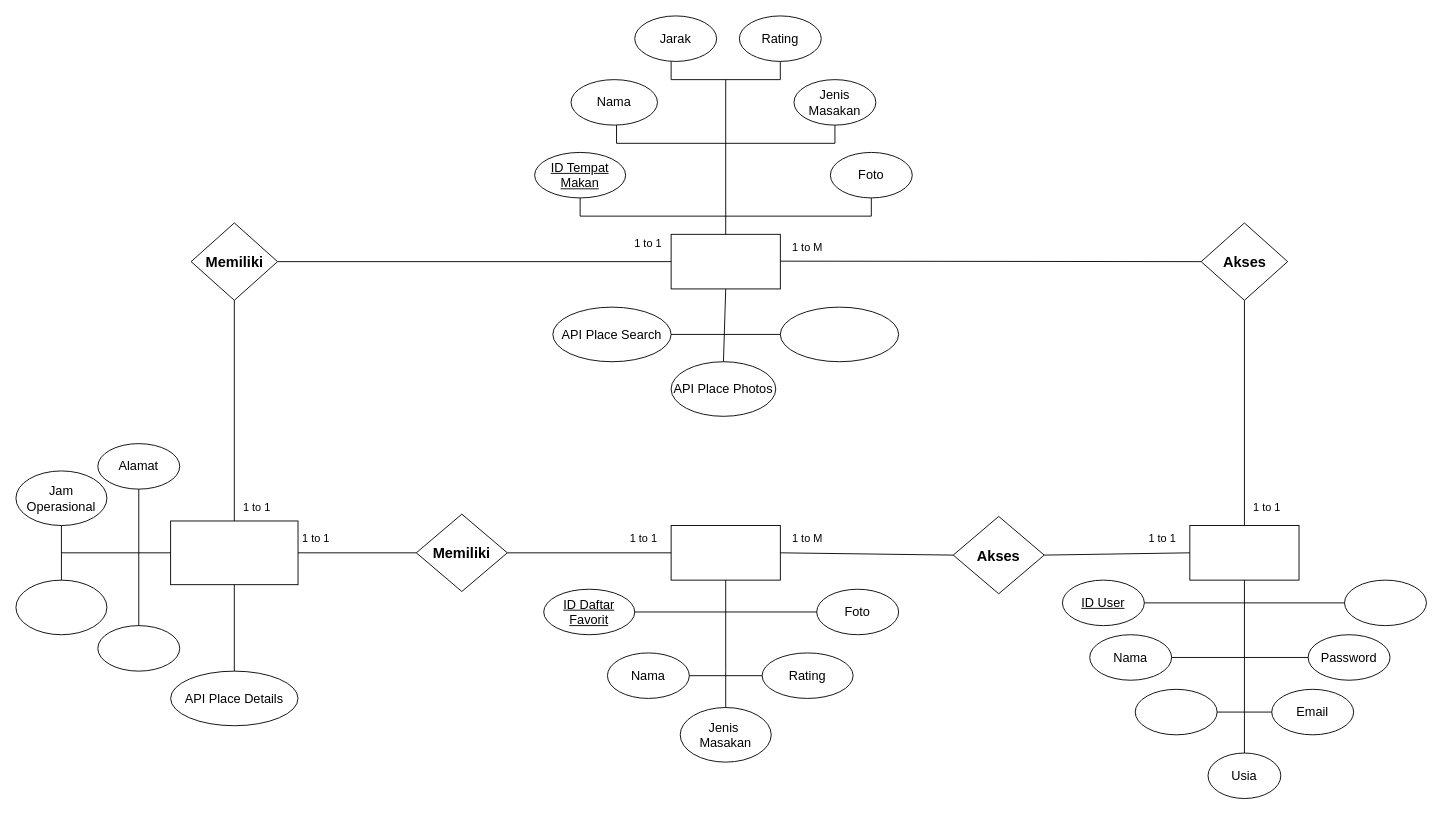
Some shapes in this 1442 by 814 pixel diagram are drawn without their labels. The box of each missing label's shape, as (x1, y1, x2, y2) in pixels:
API Autocomplete: (779, 306, 899, 362)
Avatar: (1344, 579, 1426, 626)
Daftar Favorit: (670, 525, 780, 580)
Detail Tempat Makan: (170, 520, 298, 585)
Jenis Kelamin: (1134, 688, 1217, 735)
Menu Makanan: (15, 579, 107, 635)
Tempat Makan: (670, 233, 780, 289)
Ulasan: (97, 625, 180, 671)
User: (1189, 525, 1299, 580)
